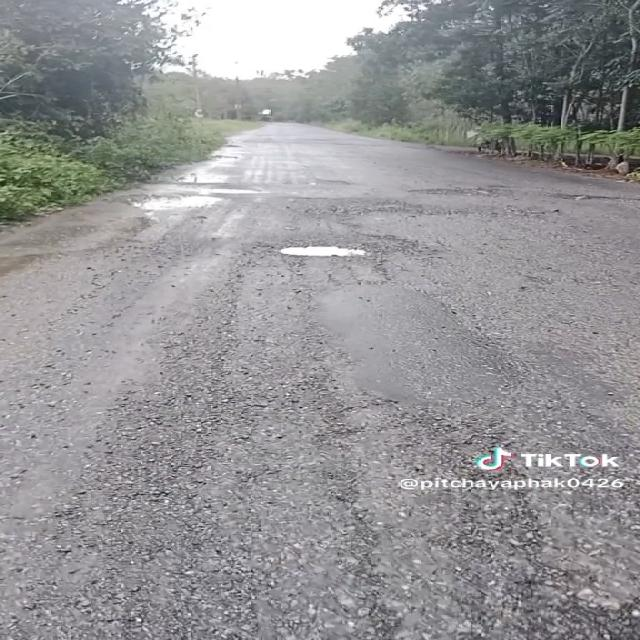Poth-hole: (240, 222, 458, 275), (114, 172, 224, 240)
